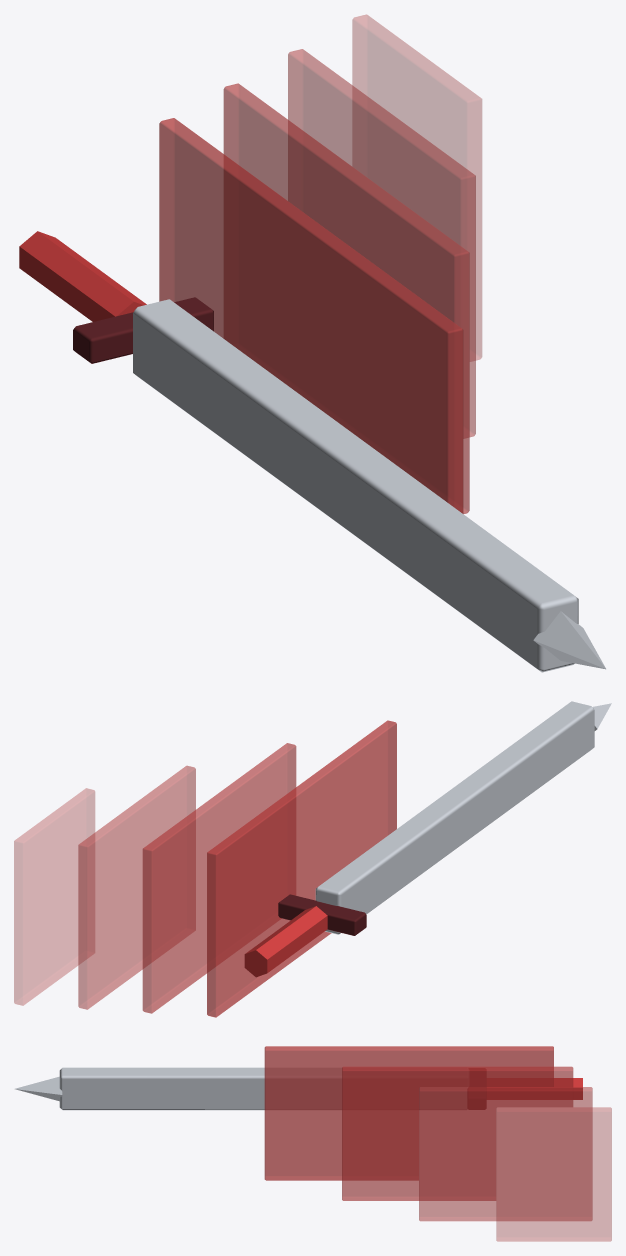
The model's file is gale_cut.glb.
3 renders of one model, top to bottom at view 1: azimuth 30°, elevation 25°; view 2: azimuth 150°, elevation 25°; view 3: azimuth 270°, elevation 25°, orthographic. The views are drawn at different scales.
Visible parts, largest first — view 1: after_image_1, after_image_0, blade, after_image_2, after_image_3, handle, guard, blade_tip; view 2: after_image_1, after_image_0, after_image_2, blade, after_image_3, handle, guard; view 3: after_image_0, after_image_1, after_image_2, after_image_3, blade, handle, blade_tip, guard.
Boxes of the visible parts, bbox=[...] form: after_image_1: bbox=[223, 83, 469, 513]; after_image_0: bbox=[159, 118, 463, 513]; blade: bbox=[133, 299, 578, 672]; after_image_2: bbox=[288, 49, 475, 437]; after_image_3: bbox=[352, 14, 481, 361]; handle: bbox=[19, 231, 146, 321]; guard: bbox=[73, 297, 213, 363]; blade_tip: bbox=[533, 611, 605, 669]; after_image_1: bbox=[142, 743, 296, 1013]; after_image_0: bbox=[207, 720, 396, 1017]; after_image_2: bbox=[78, 765, 195, 1009]; blade: bbox=[315, 701, 594, 934]; after_image_3: bbox=[14, 788, 94, 1005]; handle: bbox=[244, 906, 327, 977]; guard: bbox=[278, 894, 366, 935]; after_image_0: bbox=[264, 1046, 553, 1180]; after_image_1: bbox=[342, 1066, 573, 1200]; after_image_2: bbox=[419, 1087, 592, 1221]; after_image_3: bbox=[496, 1107, 611, 1241]; blade: bbox=[59, 1067, 467, 1110]; handle: bbox=[487, 1078, 582, 1099]; blade_tip: bbox=[15, 1076, 62, 1101]; guard: bbox=[468, 1087, 485, 1109].
Bounding box in the file's own units: 0.505 × 0.3 × 1.24.
